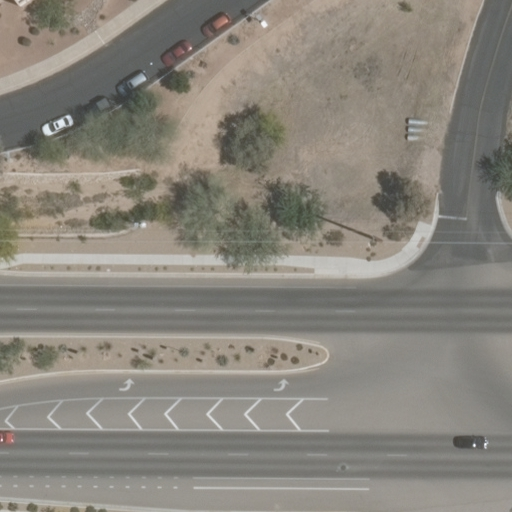DT: (364, 228, 388, 249)
